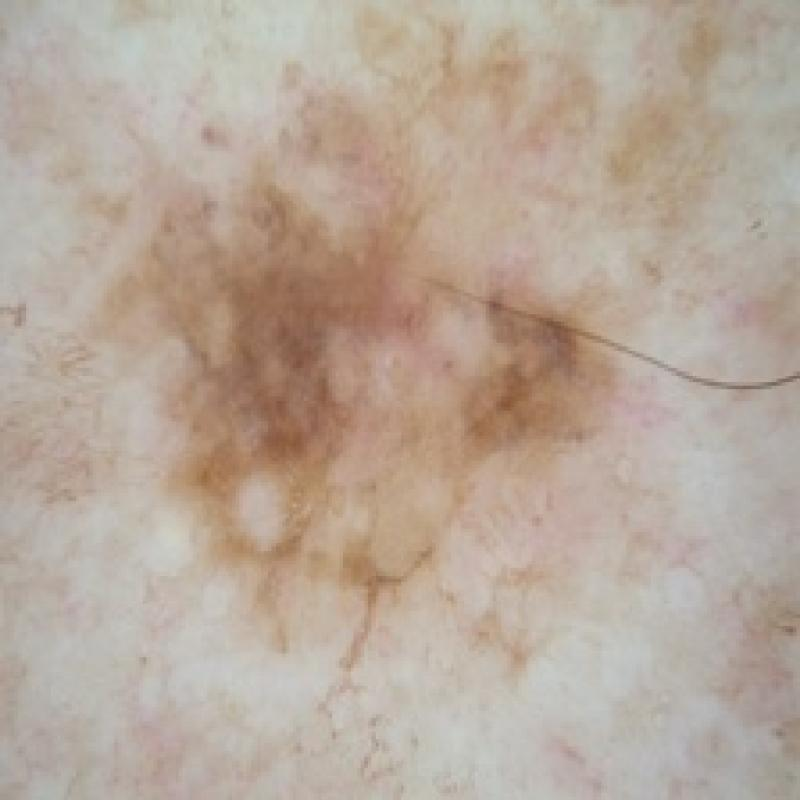malignant: (119, 76, 638, 616)
